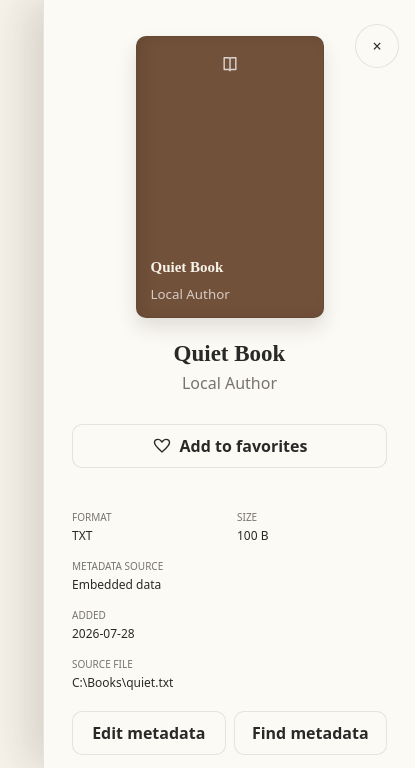
Test: BookDetails › does not search until the user submits and then compares candidates
Click the button "Find metadata" at (310, 733), box [234,711,387,755]
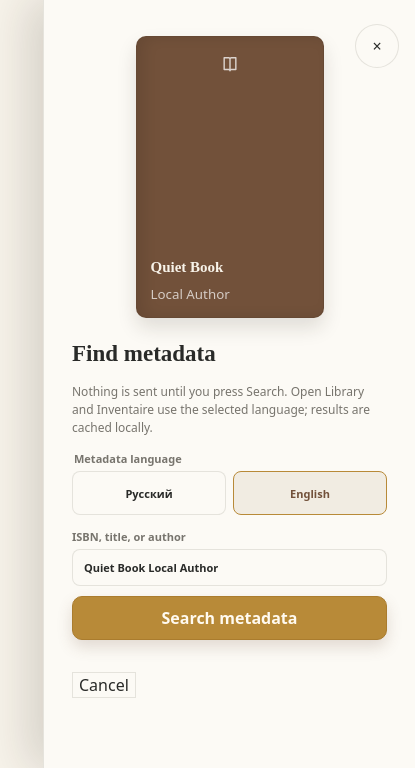
Click the button "Search metadata" at (230, 618), box [72,596,387,640]
(page scrolled)
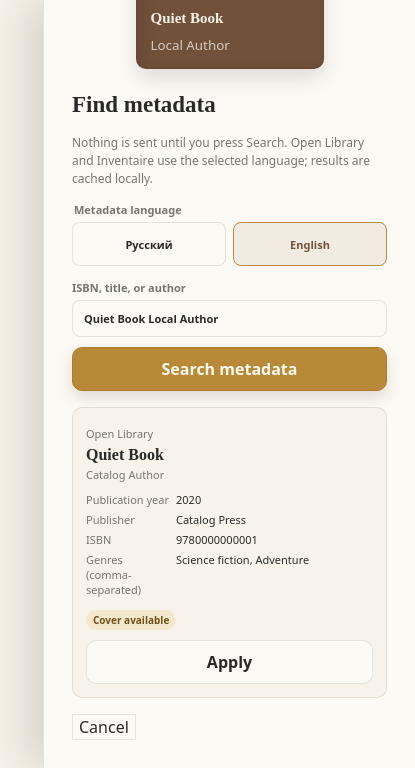
Expected: the text "Catalog Author" is shown, [86,467,164,482]
Expected: the text "Cover available" is shown, [86,610,176,630]
